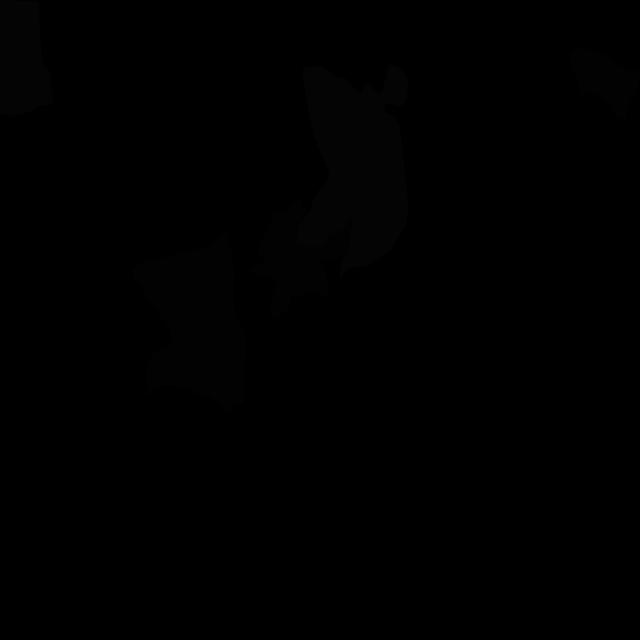cardboard: (131, 231, 246, 413), (250, 199, 353, 321), (569, 48, 640, 121)
soft_plastic: (296, 64, 408, 282), (0, 0, 54, 116)
